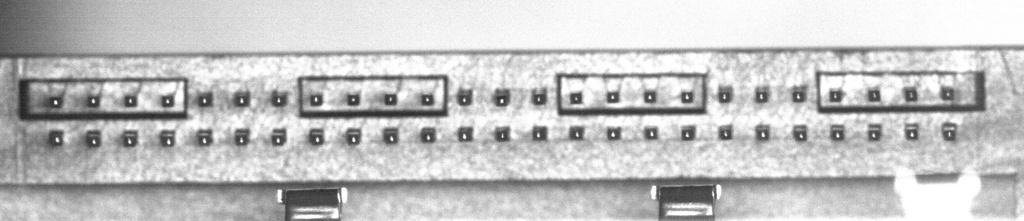pin_ok: (493, 87, 511, 106), (941, 122, 958, 141), (456, 87, 473, 105), (531, 87, 548, 105), (85, 129, 102, 147), (159, 129, 176, 147), (903, 122, 920, 140), (270, 128, 287, 146), (48, 129, 65, 146), (122, 129, 138, 147), (196, 128, 212, 146), (717, 85, 733, 102), (271, 90, 287, 107), (234, 128, 250, 145), (345, 128, 361, 145), (197, 91, 213, 107), (754, 87, 770, 103), (420, 127, 436, 143), (383, 128, 399, 144), (867, 124, 882, 141), (830, 124, 845, 141), (793, 125, 808, 141), (233, 92, 249, 107), (457, 126, 473, 141), (309, 128, 324, 144), (531, 125, 547, 140), (755, 124, 770, 140), (569, 125, 585, 140), (643, 125, 659, 140), (903, 86, 918, 102), (495, 126, 510, 141), (828, 88, 843, 103), (718, 124, 732, 140), (606, 126, 622, 140), (792, 87, 806, 102), (420, 92, 435, 106), (681, 125, 695, 140), (941, 86, 955, 101), (309, 92, 323, 106), (569, 91, 583, 105), (867, 88, 881, 102), (643, 89, 657, 103), (160, 94, 175, 107), (346, 92, 360, 105), (680, 90, 694, 103), (124, 94, 137, 107), (384, 92, 397, 105), (606, 90, 619, 103), (86, 95, 99, 107), (49, 96, 61, 107)
